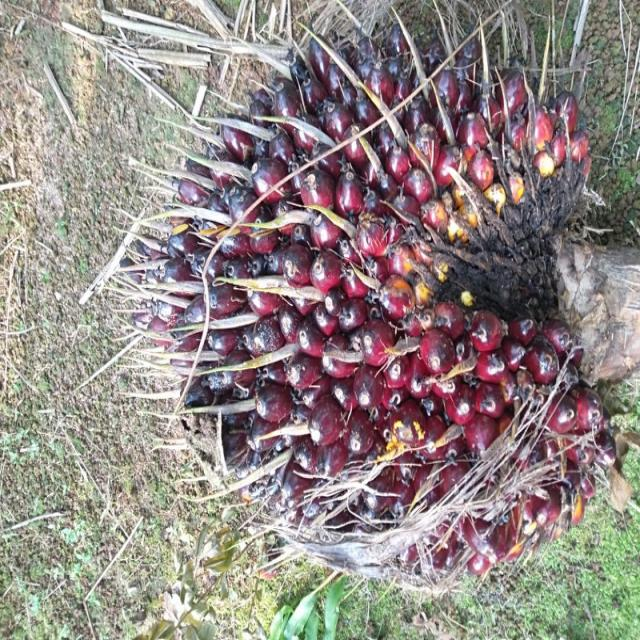fraksi 1: (126, 24, 640, 602)
